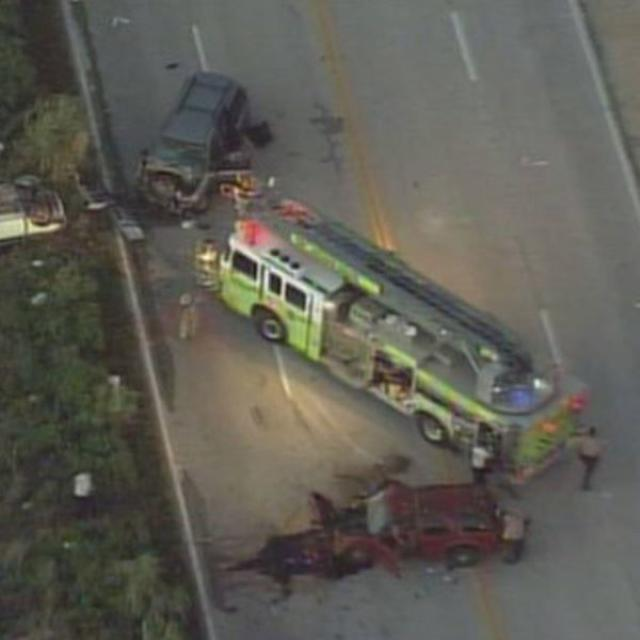traffic_incident: (297, 464, 515, 577), (132, 60, 255, 218)
